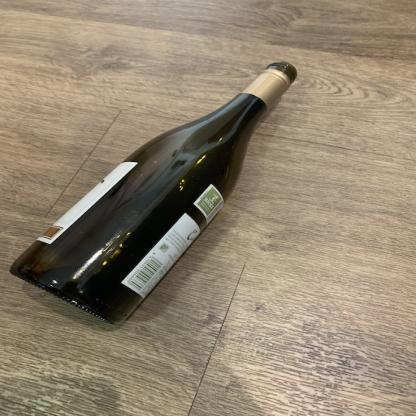trash: (8, 60, 301, 330)
